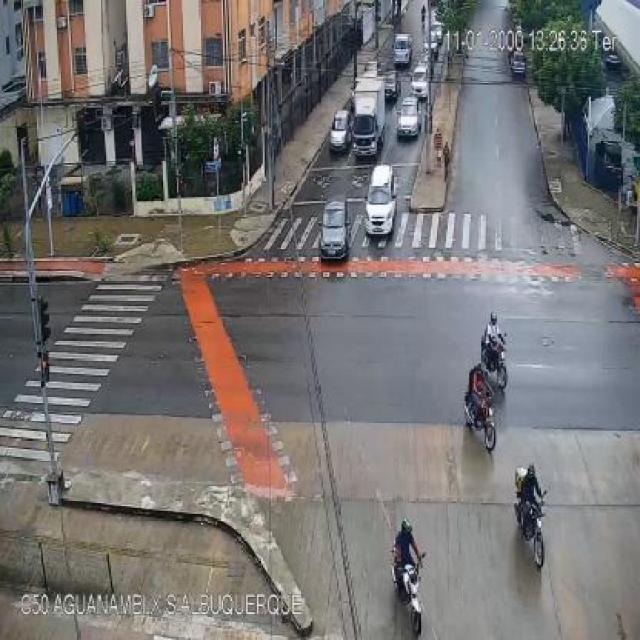Car: (361, 165, 397, 242), (318, 193, 350, 262), (396, 94, 423, 140), (328, 111, 352, 155), (391, 29, 412, 68), (408, 64, 428, 100), (386, 67, 400, 101)
Cycle: (388, 518, 430, 636), (512, 464, 552, 570), (464, 360, 498, 454), (478, 312, 512, 391)
Truck: (351, 75, 387, 158)
